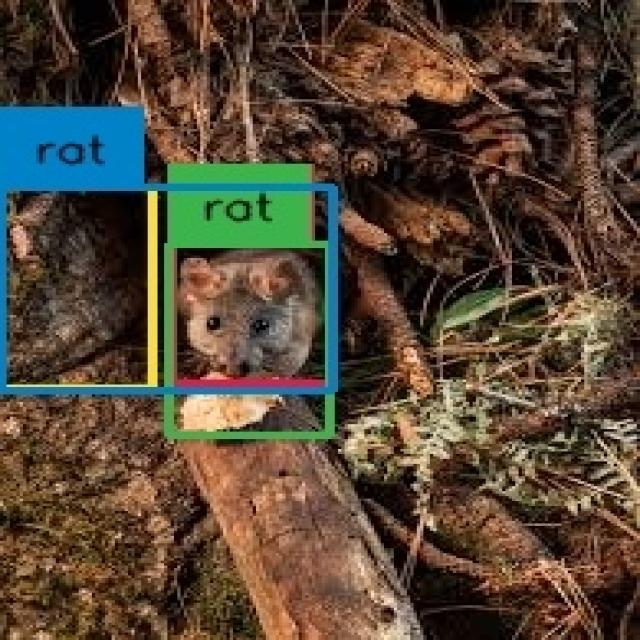rat: (0, 187, 331, 390), (0, 188, 154, 389), (170, 243, 332, 434), (170, 243, 332, 382)
